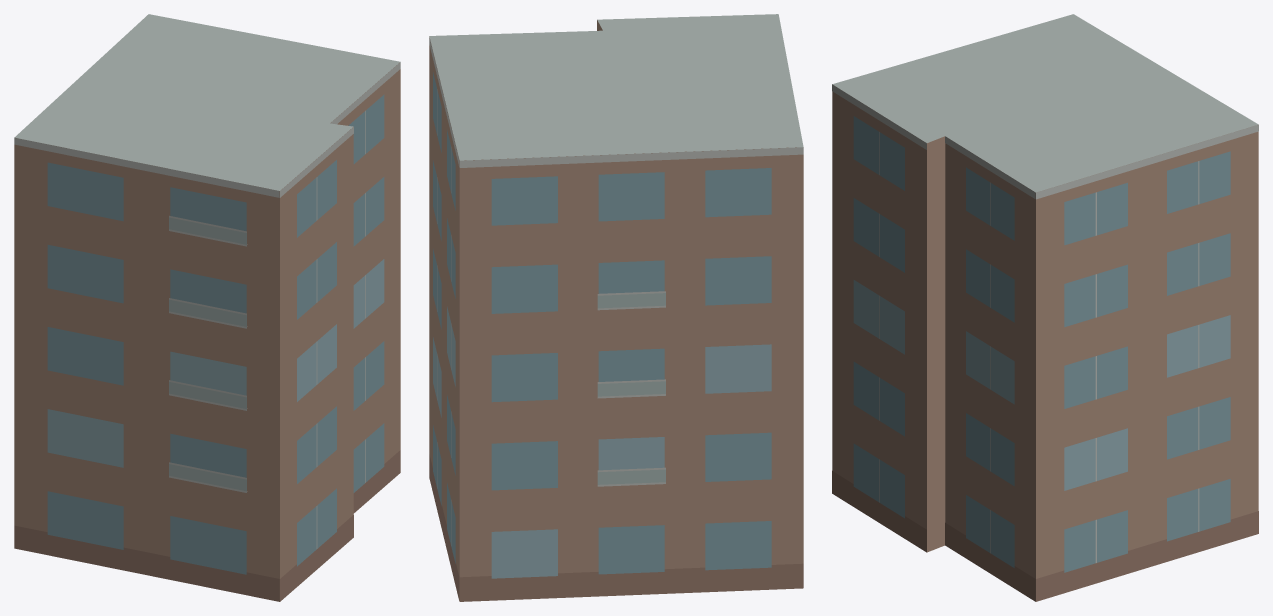
File: survey-upis-32782015.glb
3 renders of one model, left to right at view 1: azimuth 30°, elevation 25°; view 2: azimuth 150°, elevation 25°; view 3: azimuth 270°, elevation 25°, orthographic. The views are drawn at different scales.
Visible parts, largest first — view 1: survey-upis-32782015.tmp; view 2: survey-upis-32782015.tmp; view 3: survey-upis-32782015.tmp.
Boxes of the visible parts, x1,y1,x2,y2 form: survey-upis-32782015.tmp: (14,14,400,601); survey-upis-32782015.tmp: (429,14,803,601); survey-upis-32782015.tmp: (832,14,1258,601).
Bounding box in the file's own units: 13.48 × 14.4 × 13.61.
